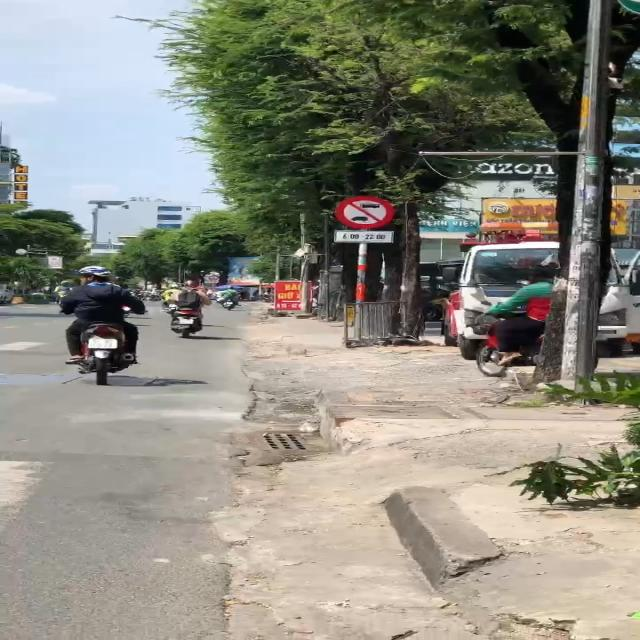Bien bao cam xe oto khach va xe oto tai: (331, 192, 397, 229)
